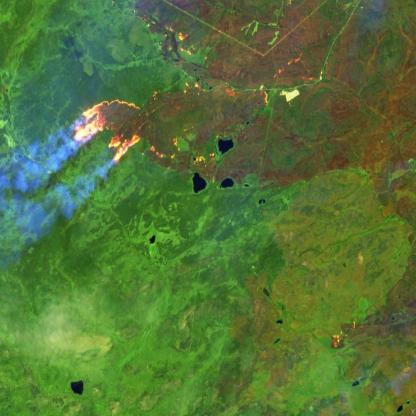fire: (144, 27, 307, 169), (69, 97, 141, 171), (330, 316, 362, 353)
